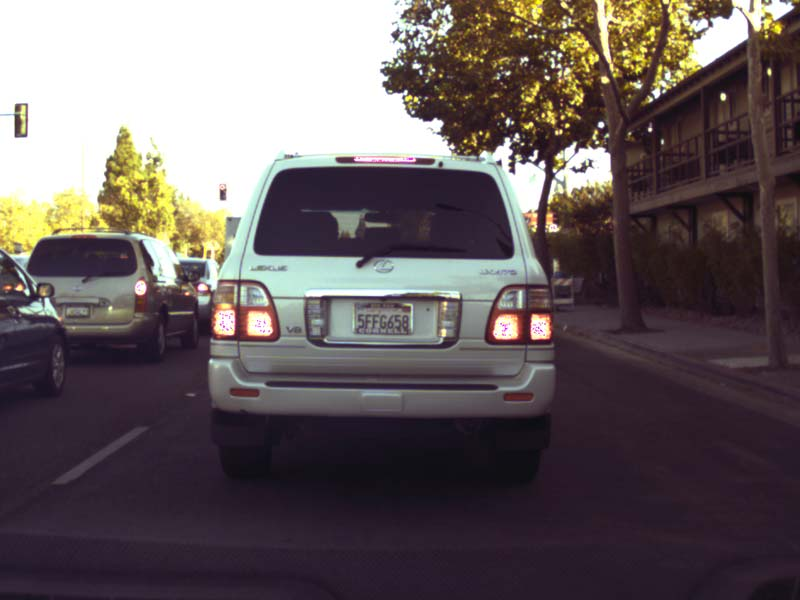Red: (219, 183, 226, 200)
